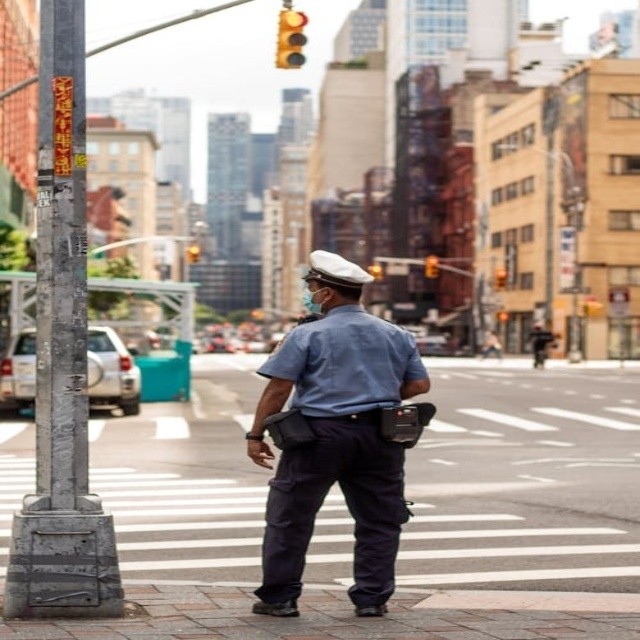Mascara: (301, 287, 328, 315)
Sin_guantes: (238, 439, 279, 469)
